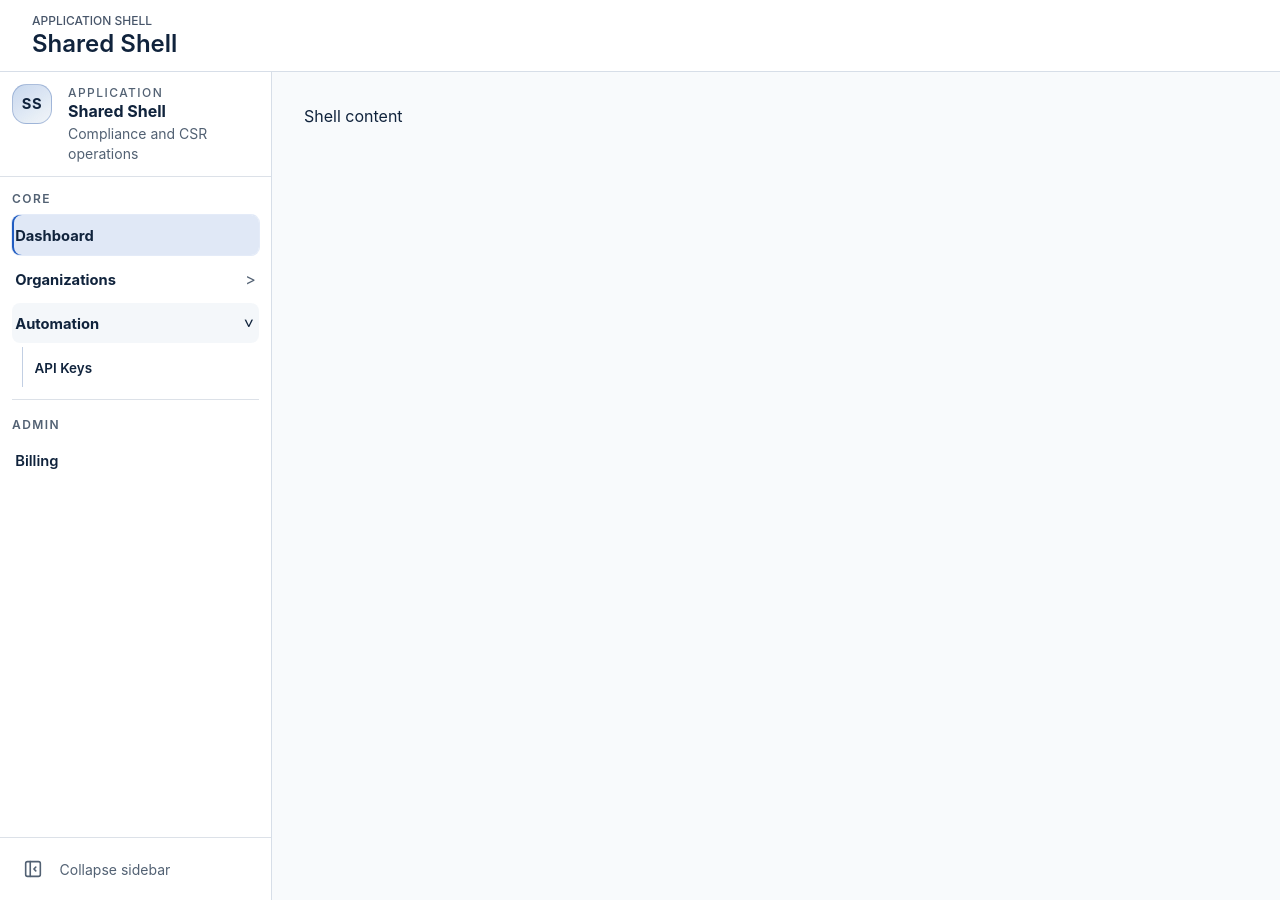
Test case: VerifyForGoodAppShell › supports nested expand and collapse behavior
Click the button "Organizations >" at (136, 279), box left=12, top=259, right=259, bottom=299
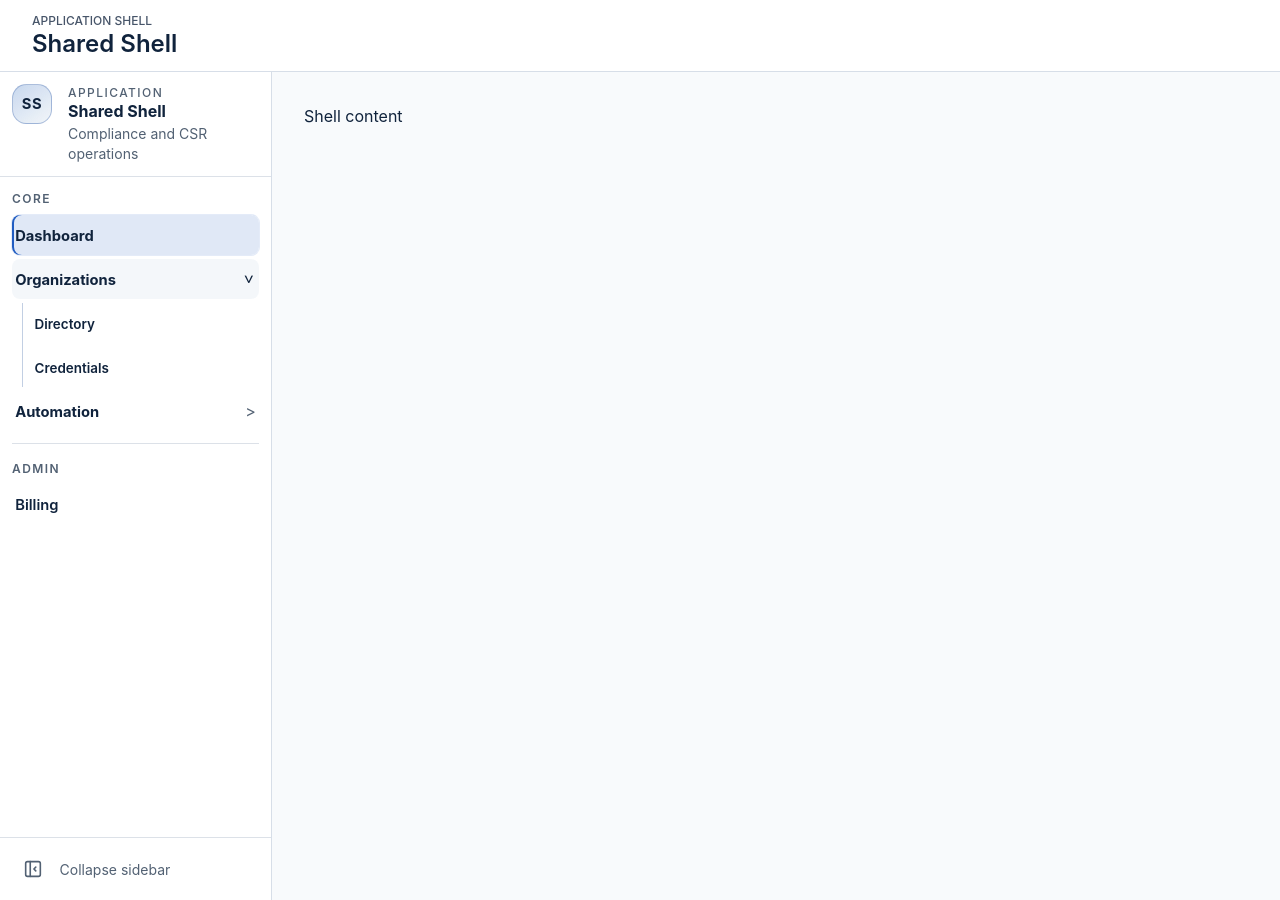
expect the button "Organizations >" has class "vf-app-shell-nav__item--expanded": met
Click the button "Organizations >" at (136, 279), box left=12, top=259, right=259, bottom=299
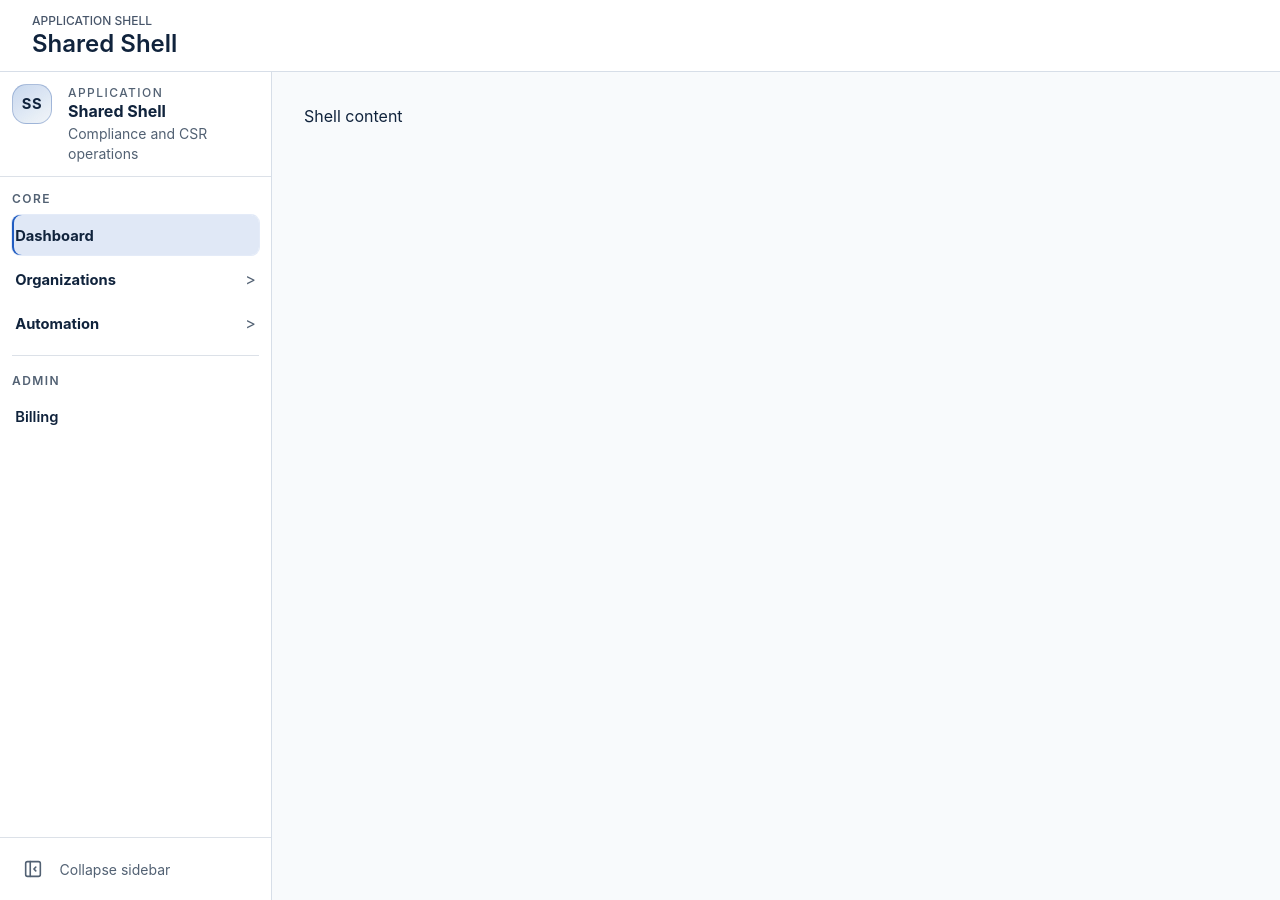
expect the link "Directory" is gone: met
expect the link "Credentials" is gone: met
